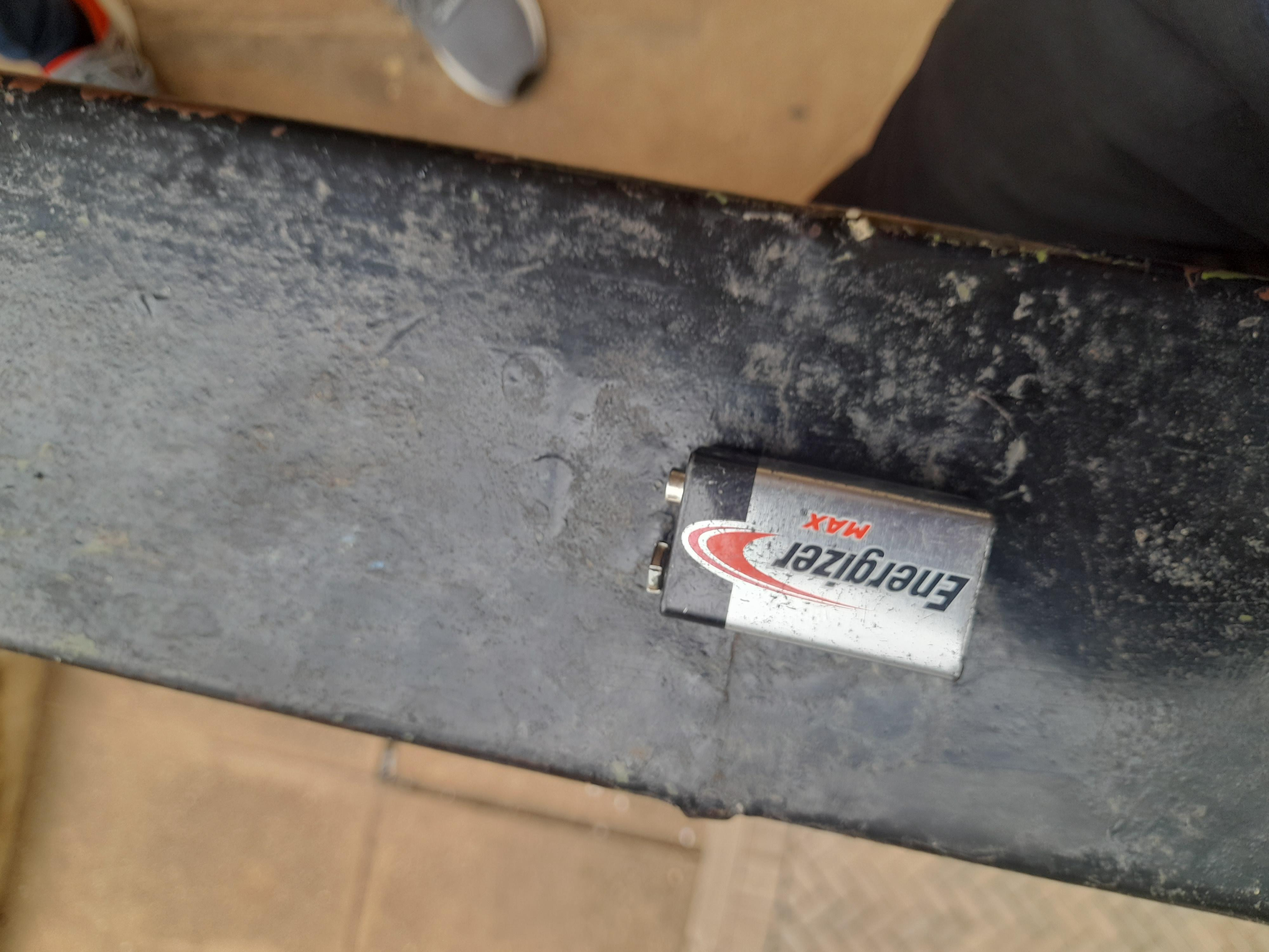9V: (628, 426, 1007, 699)
